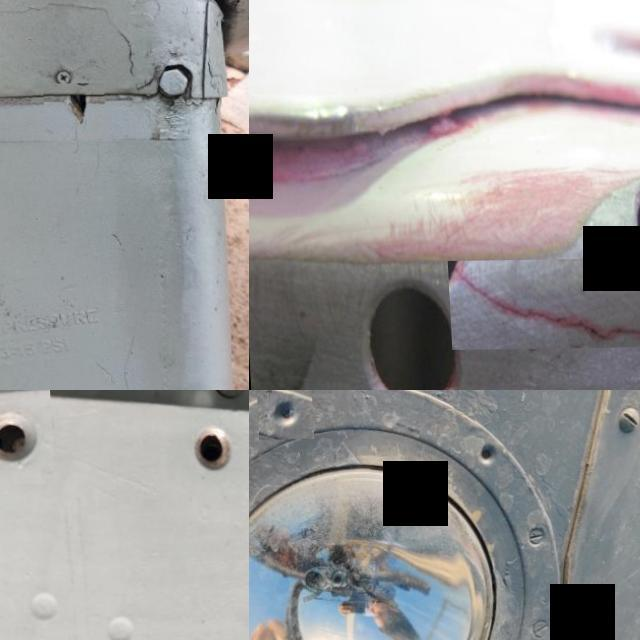Crack: (446, 262, 640, 349), (40, 84, 103, 142)
Missing_Fastener: (167, 416, 249, 508), (0, 390, 51, 485), (460, 428, 514, 482), (254, 390, 311, 440)
